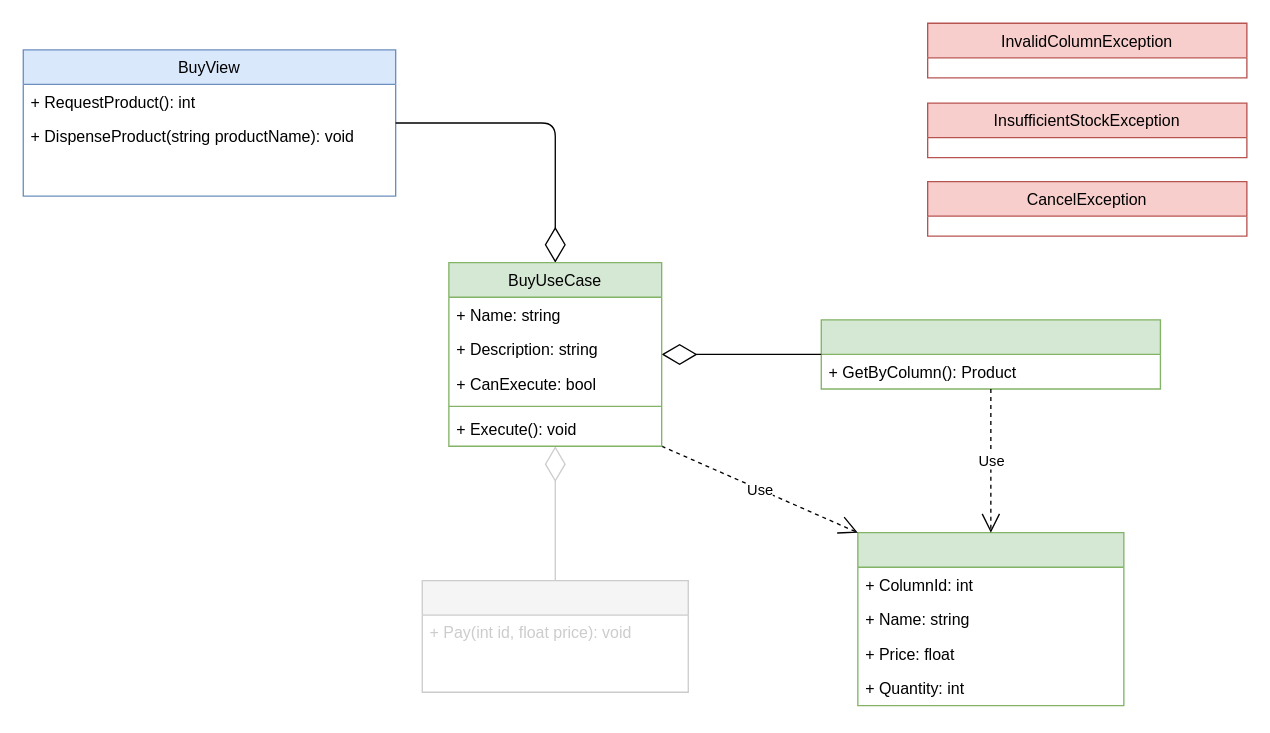
The diagram is 1270 pixels wide and 733 high, and some of its shapes have lost their labels. Here are the shapes that lost their labels. From the top down, the box of each, then its label:
(820, 319, 1160, 389): ProductRepository
(421, 579, 688, 692): Payment
(857, 531, 1124, 706): Product
